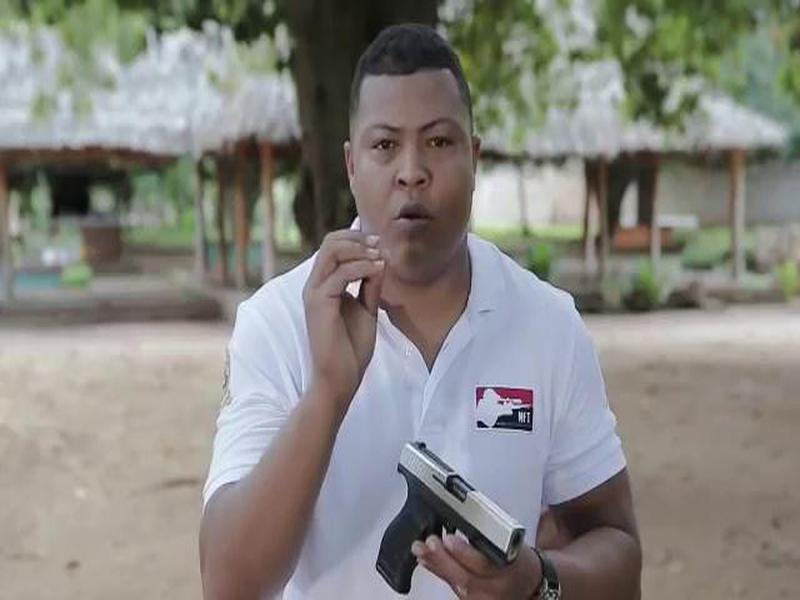Pistola: (367, 422, 560, 600)
